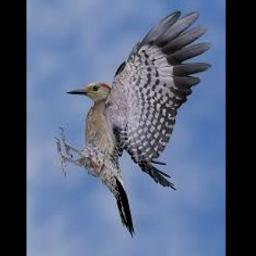Woodpecker: (54, 11, 212, 237)
